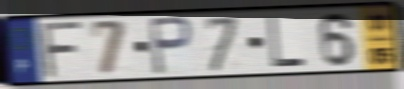6: (318, 11, 356, 69)
7: (89, 18, 132, 78), (205, 15, 241, 73)
F: (40, 19, 87, 81)
L: (266, 15, 308, 68)
P: (147, 15, 195, 77)
